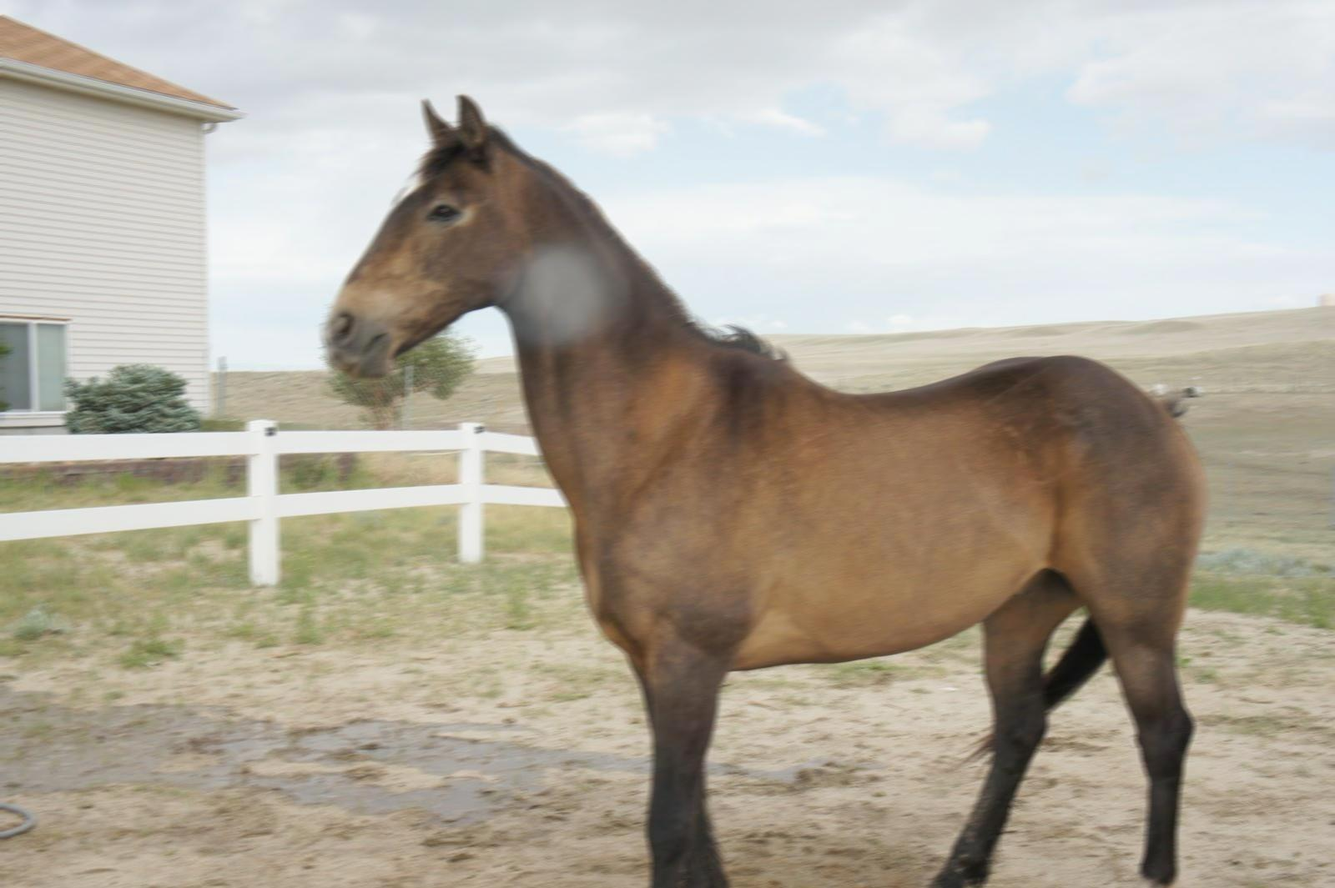horse: (311, 83, 1221, 888)
